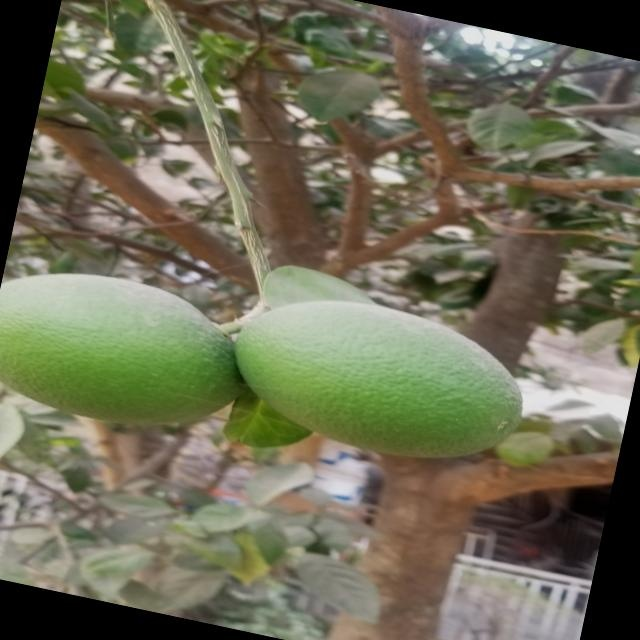agrume: (222, 279, 530, 479), (0, 255, 269, 453)
